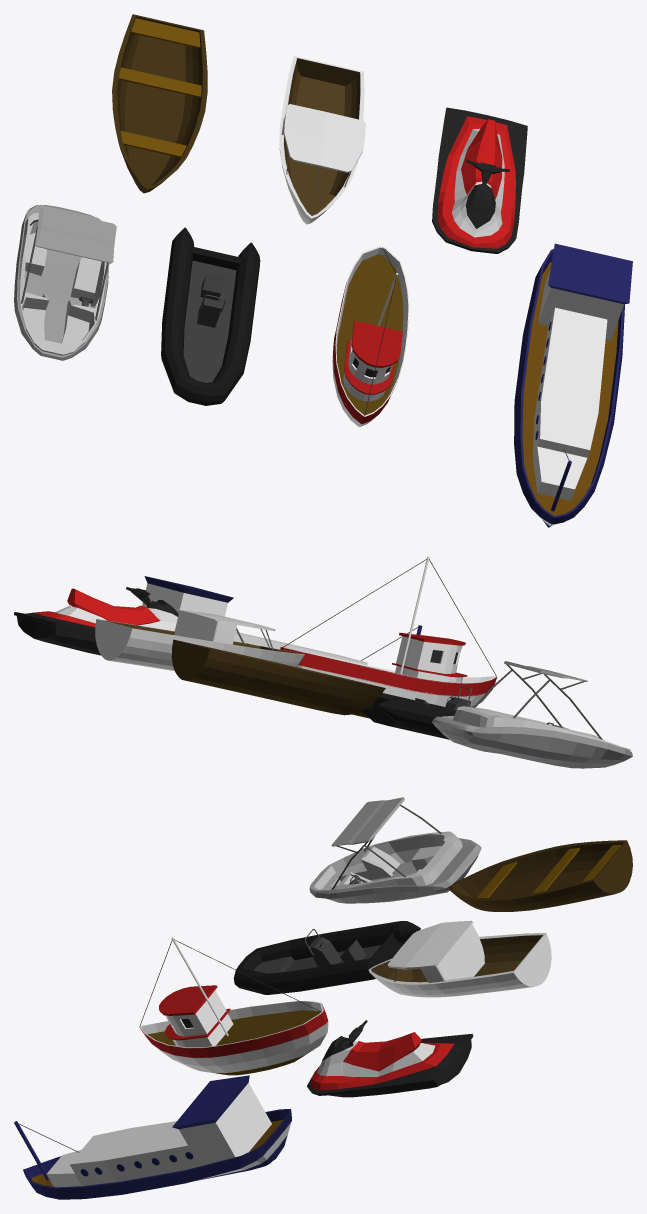
File: Low_Poly_Boats_Pack_01.glb
3 views of the same model, one above another, from view 1: azimuth 30°, elevation 25°; view 2: azimuth 150°, elevation 25°; view 3: azimuth 270°, elevation 25° (orthographic). The views are drawn at different scales.
Visible parts, largest first — view 1: GeometryNode_39, GeometryNode_15, GeometryNode_51, GeometryNode_3, GeometryNode_75, GeometryNode_63, GeometryNode_27; view 2: GeometryNode_3, GeometryNode_51, GeometryNode_27, GeometryNode_63, GeometryNode_75, GeometryNode_39, GeometryNode_15; view 3: GeometryNode_39, GeometryNode_27, GeometryNode_3, GeometryNode_63, GeometryNode_51, GeometryNode_15, GeometryNode_75.
Boxes of the visible parts, left/top/right/bottom form: GeometryNode_39: left=514, top=243, right=632, bottom=527; GeometryNode_15: left=161, top=227, right=260, bottom=405; GeometryNode_51: left=112, top=14, right=207, bottom=193; GeometryNode_3: left=14, top=204, right=116, bottom=360; GeometryNode_75: left=432, top=107, right=527, bottom=253; GeometryNode_63: left=279, top=56, right=365, bottom=224; GeometryNode_27: left=332, top=246, right=409, bottom=426; GeometryNode_3: left=432, top=661, right=632, bottom=768; GeometryNode_51: left=171, top=639, right=385, bottom=715; GeometryNode_27: left=280, top=556, right=497, bottom=718; GeometryNode_63: left=95, top=609, right=304, bottom=670; GeometryNode_75: left=14, top=587, right=178, bottom=655; GeometryNode_39: left=142, top=576, right=422, bottom=664; GeometryNode_15: left=362, top=686, right=471, bottom=739; GeometryNode_39: left=14, top=1075, right=291, bottom=1199; GeometryNode_27: left=139, top=937, right=328, bottom=1075; GeometryNode_3: left=309, top=797, right=481, bottom=903; GeometryNode_63: left=368, top=920, right=551, bottom=997; GeometryNode_51: left=449, top=840, right=632, bottom=911; GeometryNode_15: left=233, top=921, right=420, bottom=994; GeometryNode_75: left=307, top=1020, right=473, bottom=1097.
Bounding box in the file's own units: 43.44 × 23.83 × 44.29.
7 materials, 7 textured.
